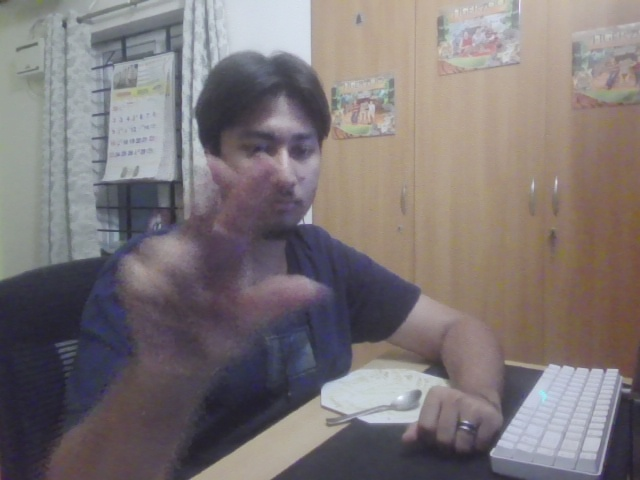no: (111, 149, 337, 383)
